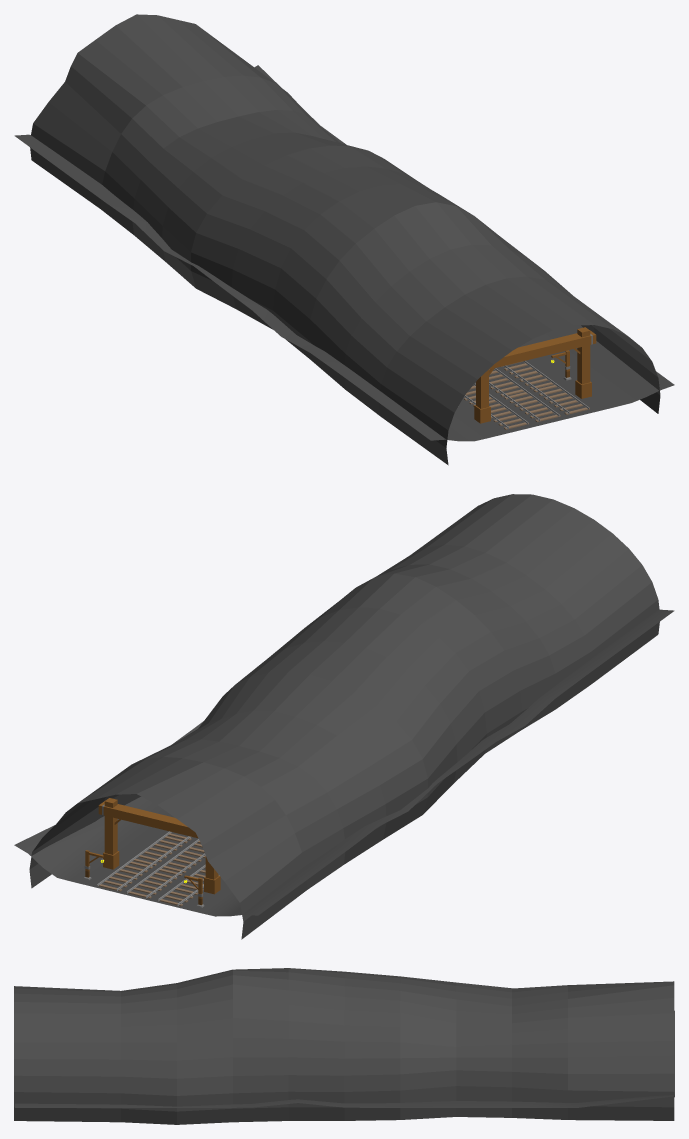
The model's file is Cenario pré definido.fbx.
The picture shows the model from 3 angles, top to bottom: view 1: azimuth 30°, elevation 25°; view 2: azimuth 150°, elevation 25°; view 3: azimuth 270°, elevation 25°; orthographic projection. The views are drawn at different scales.
Parts seen in each view (by area): view 1: Cylinder.005; view 2: Cylinder.005; view 3: Cylinder.005.
Part boxes in pixels (bbox=[...]): Cylinder.005: bbox=[14, 14, 674, 465]; Cylinder.005: bbox=[14, 494, 674, 939]; Cylinder.005: bbox=[14, 968, 674, 1124].
Bounding box in the file's own units: 2407 × 1259 × 7125.
